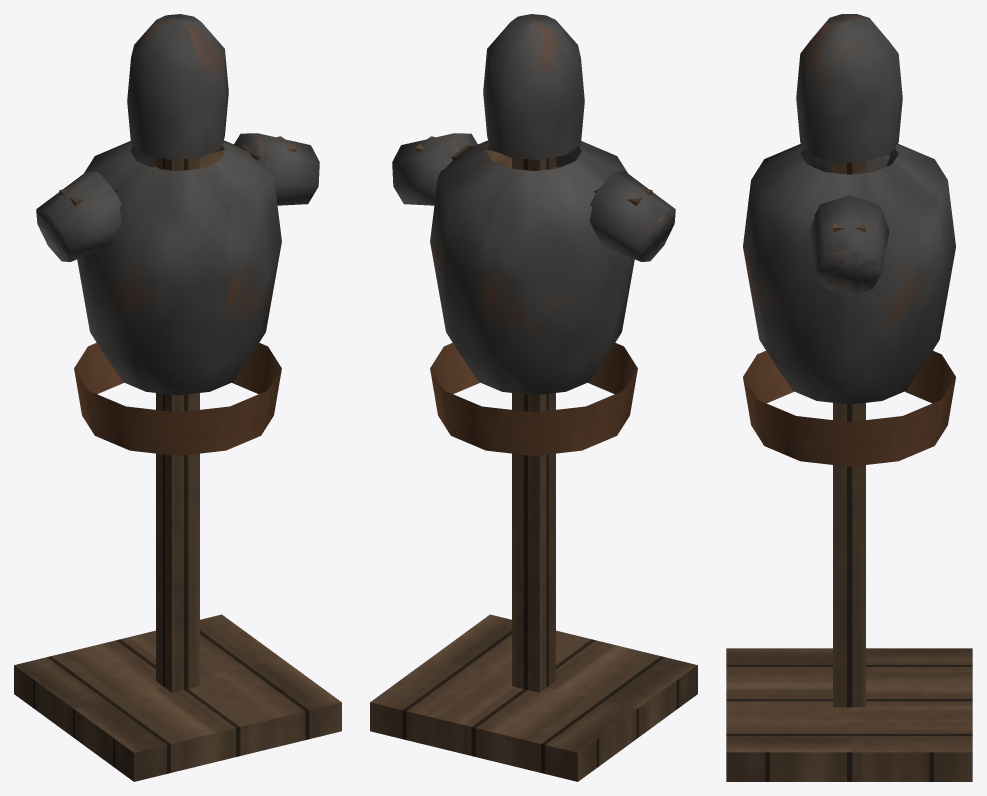
File: ArmorStand_1.gltf
3 views of the same model, side by side, from view 1: azimuth 30°, elevation 25°; view 2: azimuth 150°, elevation 25°; view 3: azimuth 270°, elevation 25° (orthographic). The views are drawn at different scales.
Parts seen in each view (by area): view 1: ArmorStand_1; view 2: ArmorStand_1; view 3: ArmorStand_1.
Boxes of the visible parts, x1,y1,x2,y2 form: ArmorStand_1: [14, 14, 341, 781]; ArmorStand_1: [370, 14, 697, 781]; ArmorStand_1: [726, 14, 972, 781].
Bounding box in the file's own units: 0.7677 × 1.91 × 0.6.
Materials: 3 (3 with a texture image).
